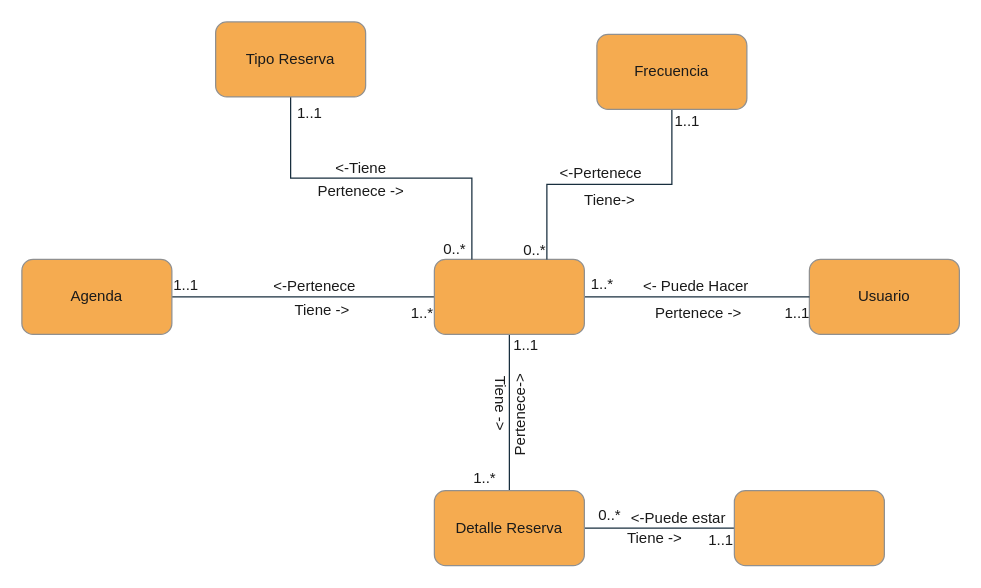
Image size: 981x588. Some labels were removed from this diagram. Here are the shapes that lost their labels. From the top down, the centre of each, then its label:
At pixel 508 296: "Reserva".
At pixel 808 527: "Dia Semanal".
